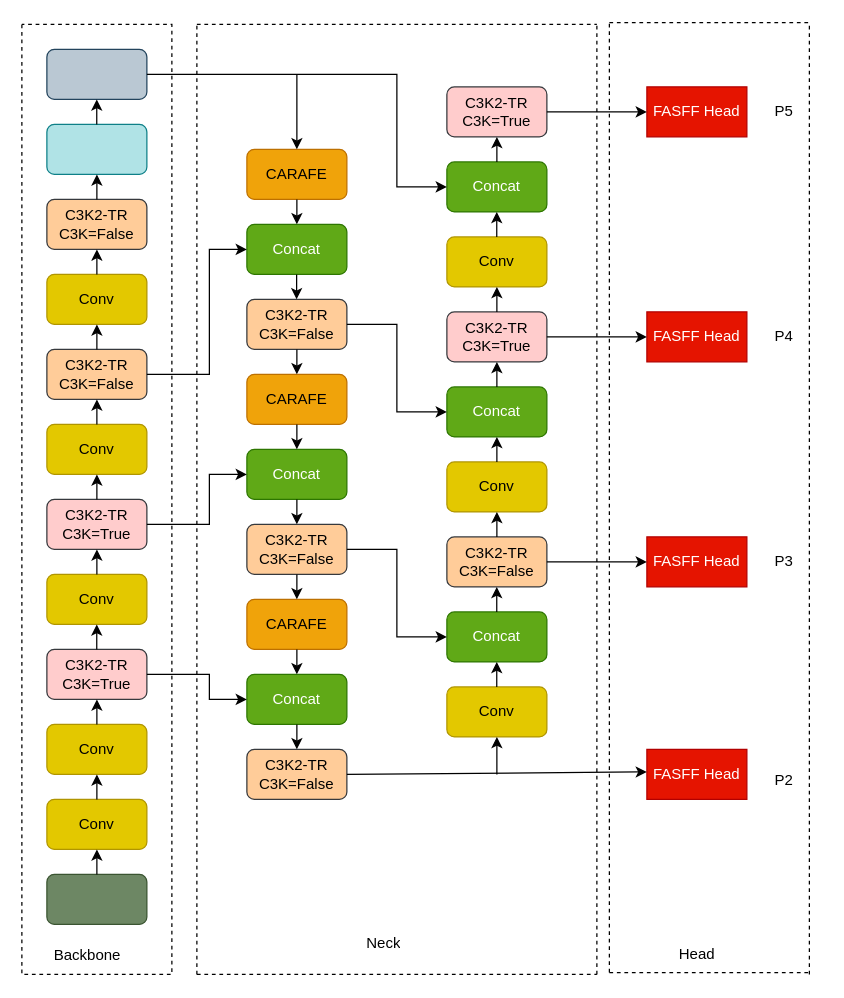
Image size: 844x998. Some labels were removed from this diagram. The shapes that lost their labels are listed below. From the top down, each one's box as (x1, y1, x2, y2) in pixels, then its label:
(46, 48, 147, 99): C2PSA
(46, 123, 147, 174): SPPF
(46, 873, 147, 924): GSAD-Net
